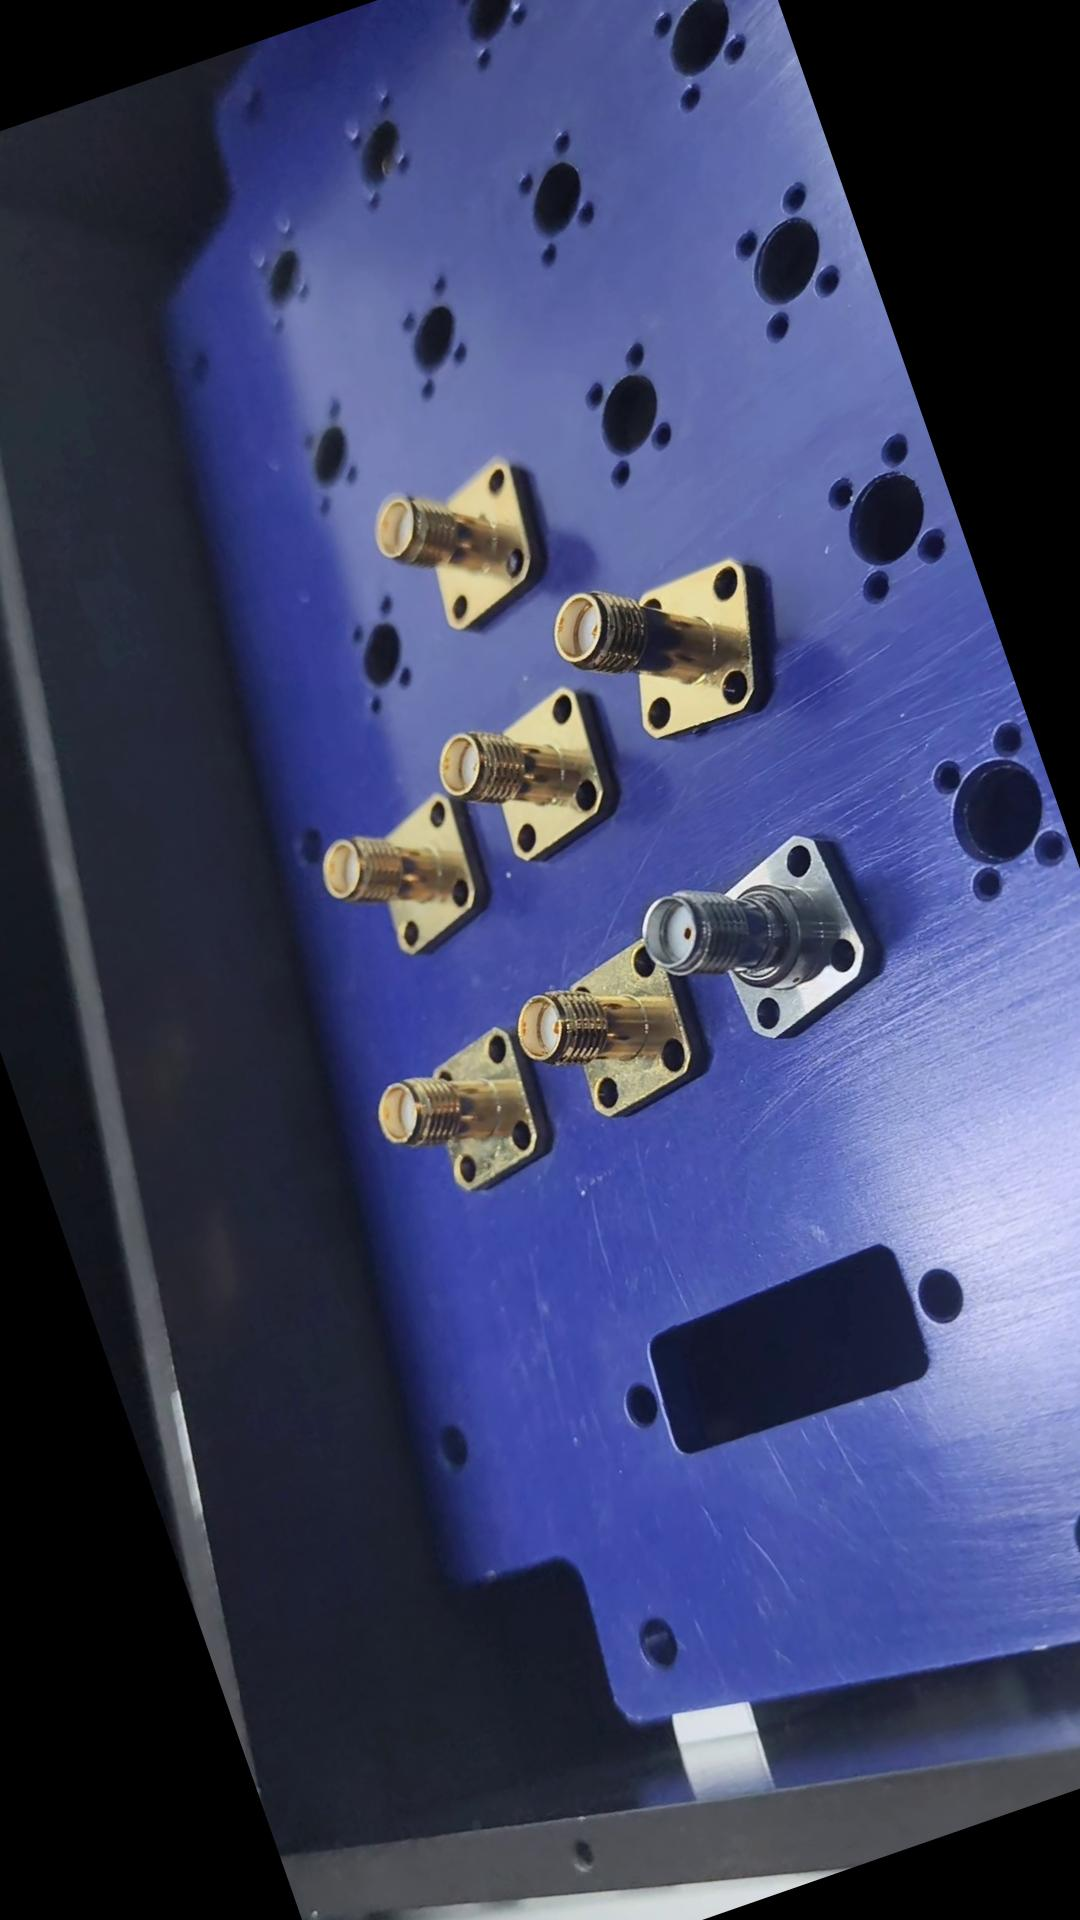SMA: (629, 818, 899, 1069), (542, 530, 796, 765), (502, 934, 712, 1141), (357, 1015, 568, 1220), (421, 682, 632, 880), (361, 448, 564, 644), (307, 786, 502, 975)
